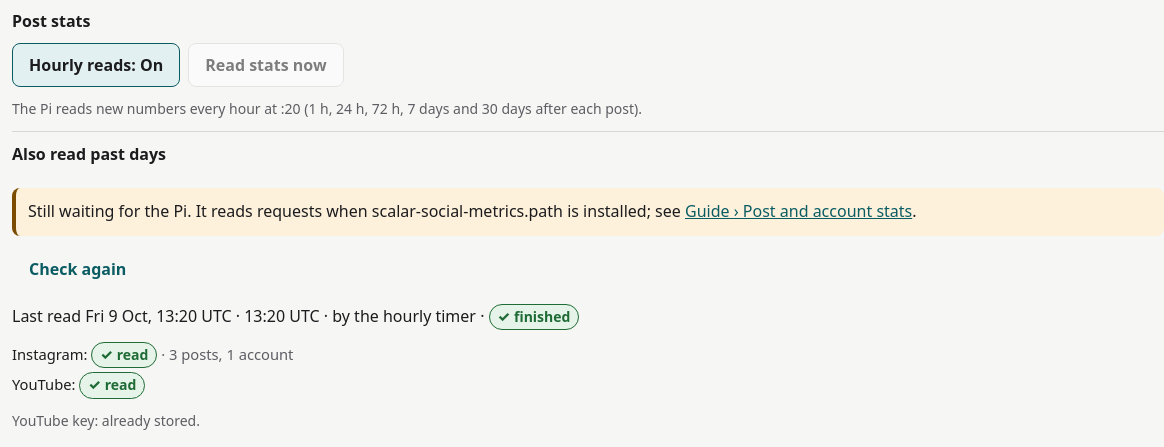
Test: Post stats panel › stops polling after 5 minutes and says it is still waiting
Expected: the text "Still waiting for the Pi." shows "Still waiting for the Pi. It reads requests when scalar-social-metrics.path is installed; see Guide › Post and account stats.", [12,188,1163,236]
Step 1. Click the button "Check again" → {"x": 78, "y": 270}, box [12,248,143,292]
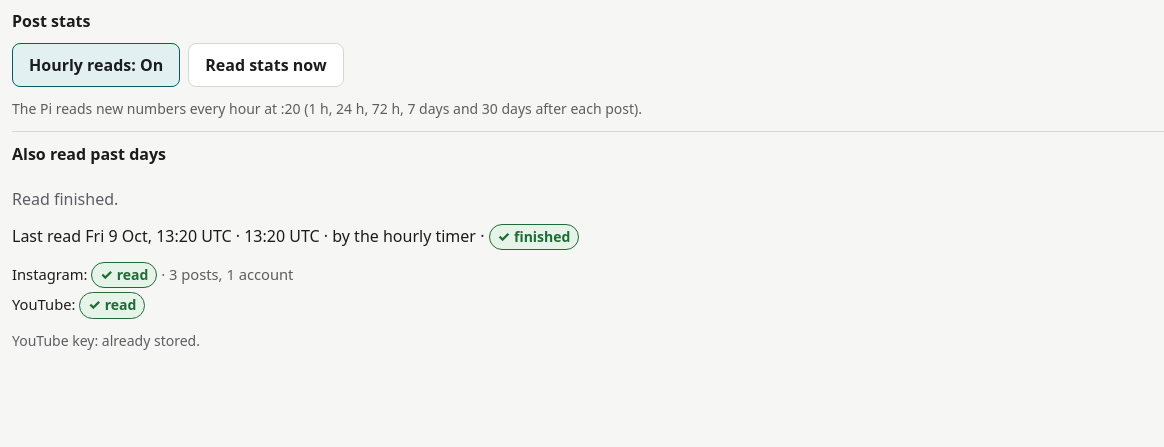
Now the text "Still waiting" is gone
